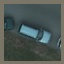car: (17, 22, 51, 44)
